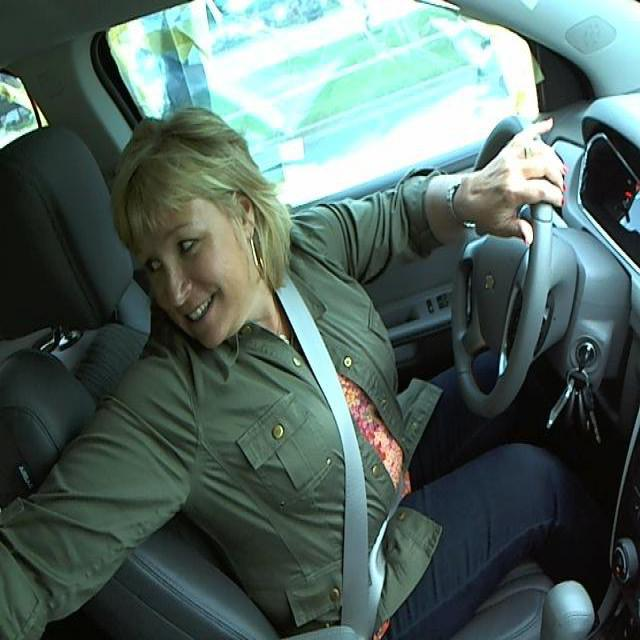seatbelt: (278, 296, 392, 627)
